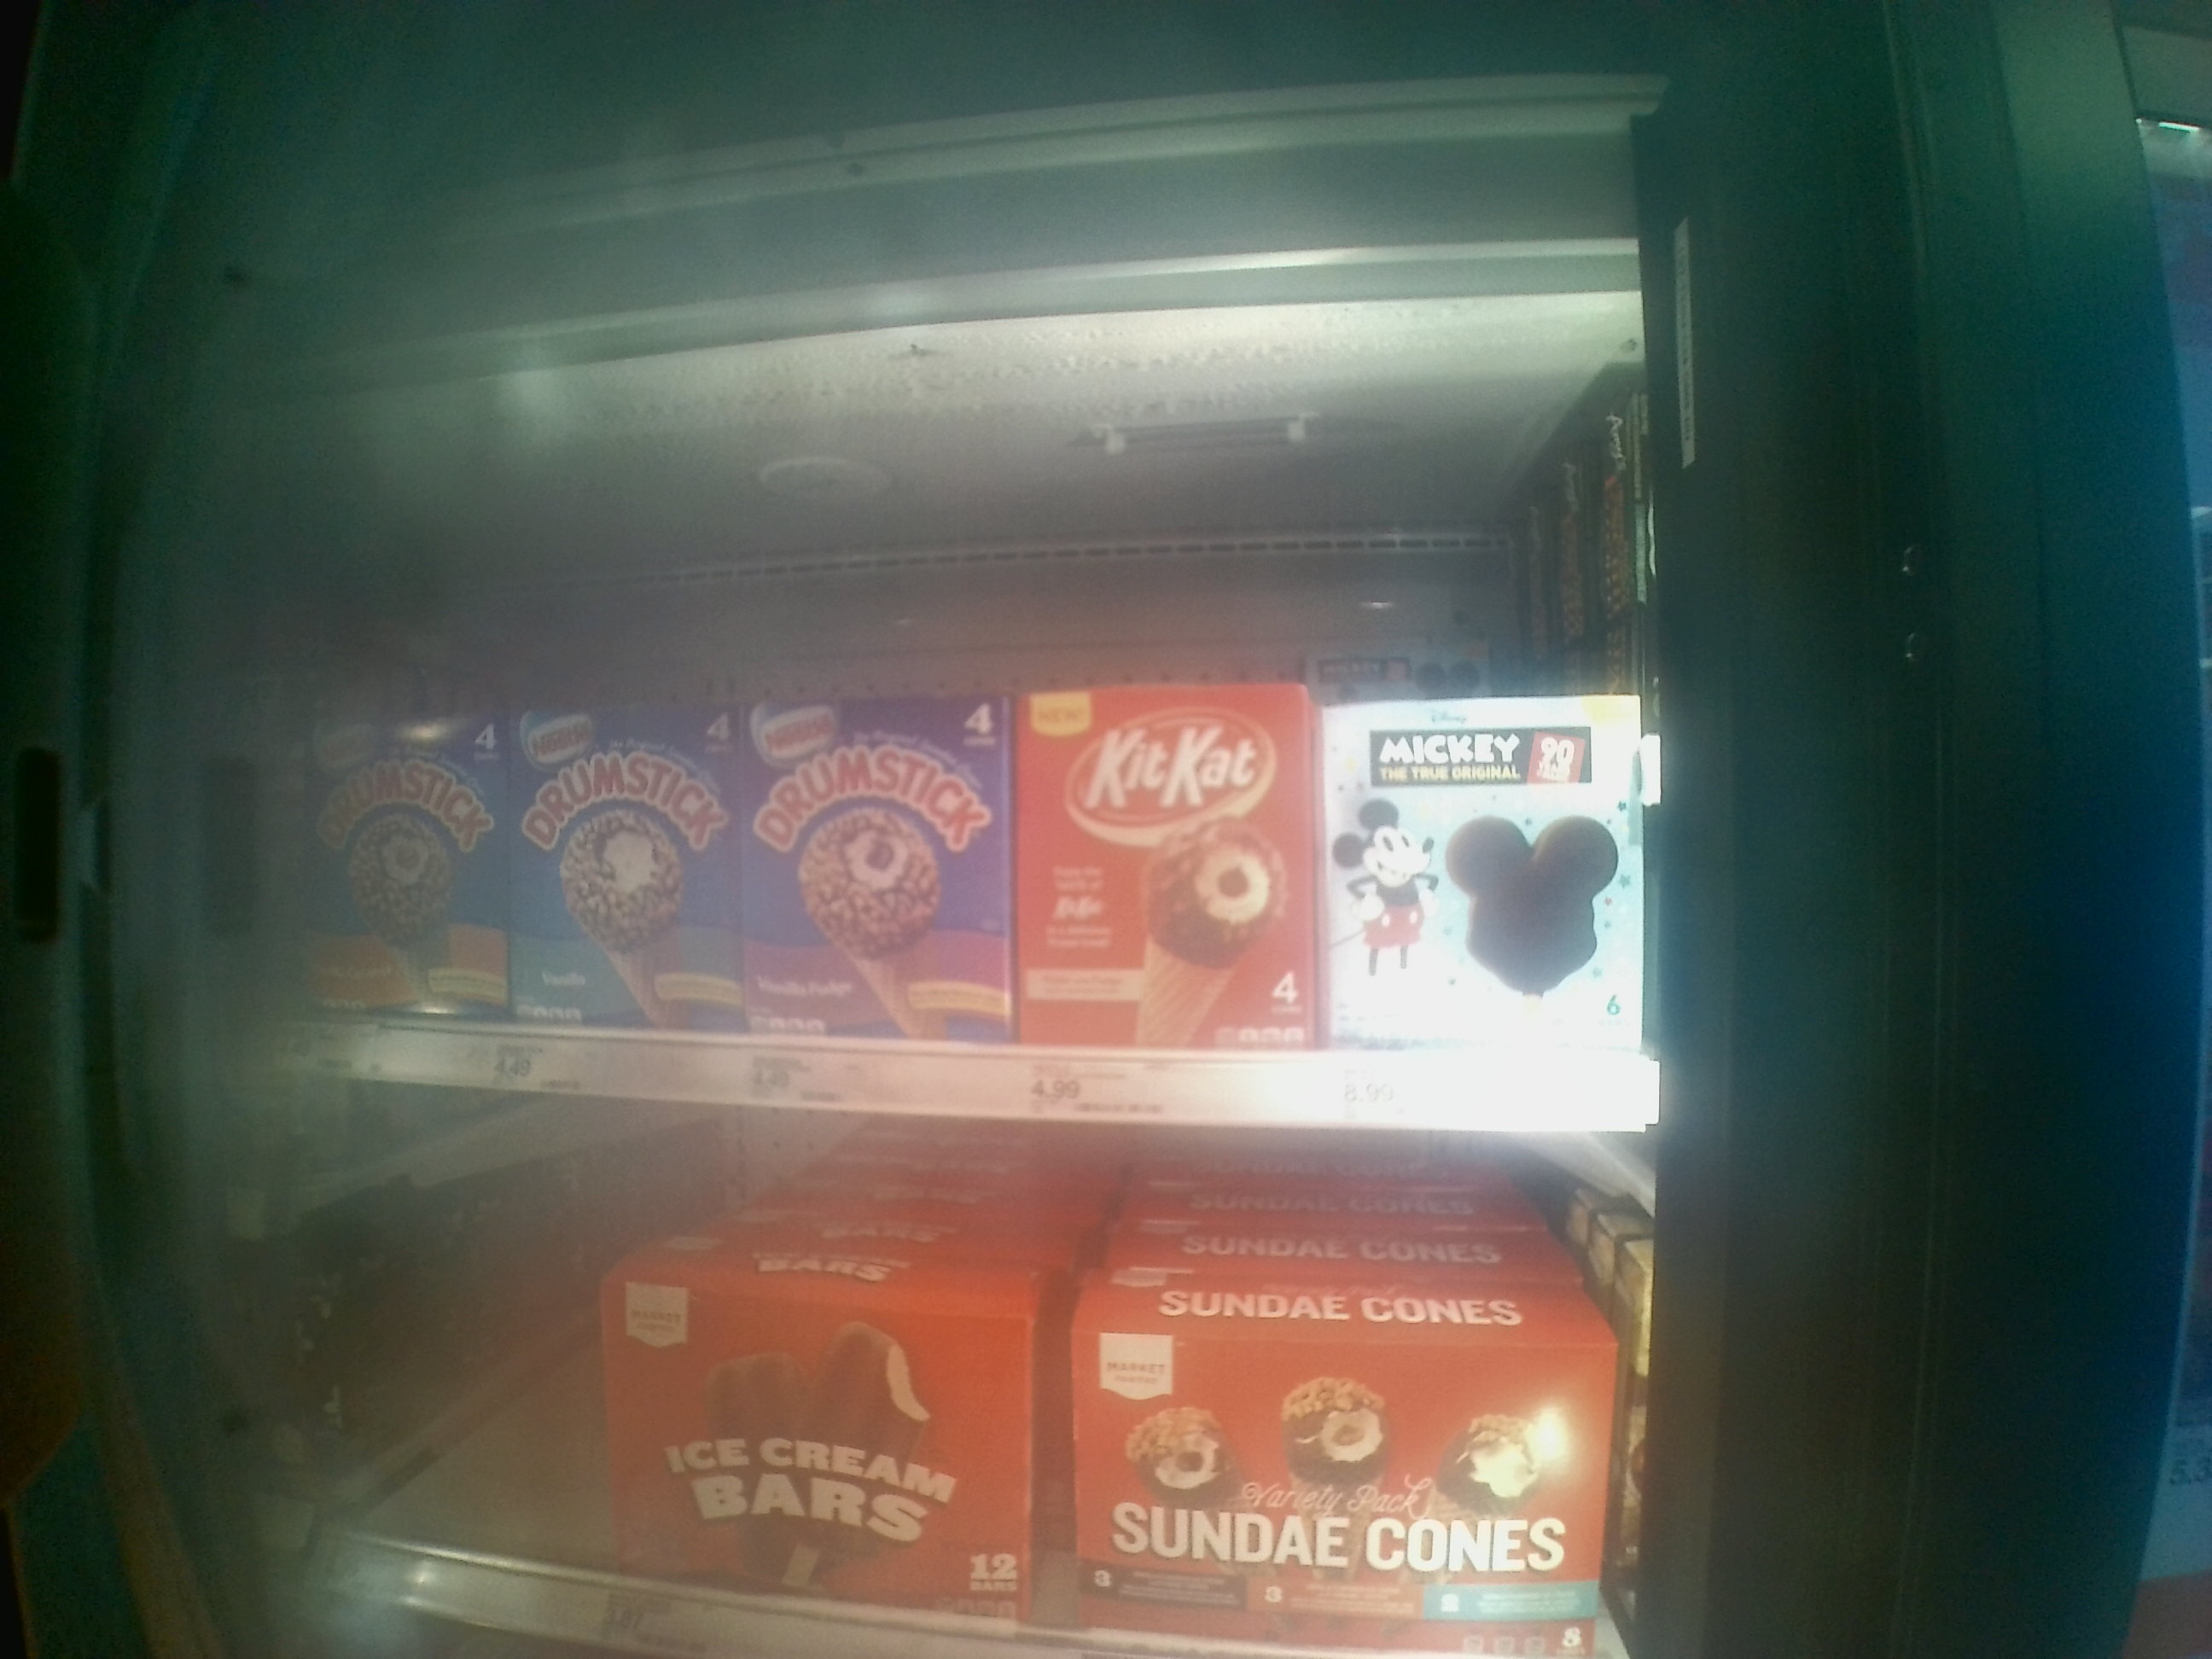shelf: (225, 542, 1649, 1129)
